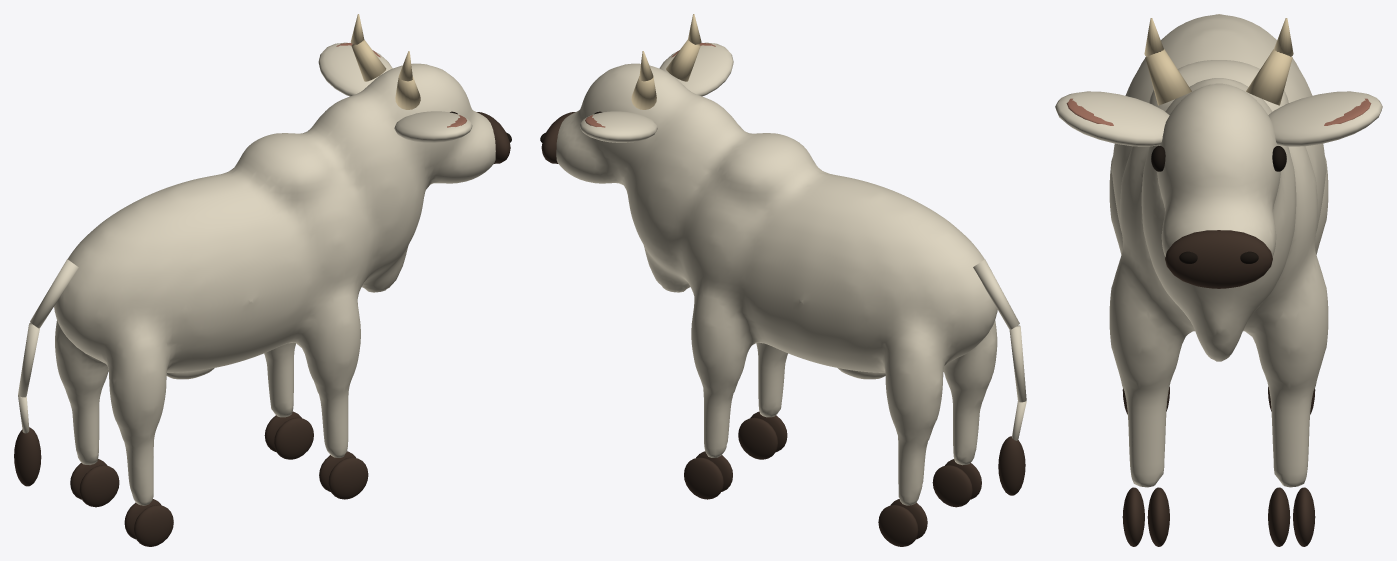
Rendered from yearling-bull.glb.
3 views of the same model, side by side, from view 1: azimuth 30°, elevation 25°; view 2: azimuth 150°, elevation 25°; view 3: azimuth 270°, elevation 25° (orthographic). The views are drawn at different scales.
Parts seen in each view (by area): view 1: Yearling bull - Cream body.001, Yearling bull - Cream Ear.003, Yearling bull - Cream Ear.002, Yearling bull - Cream Cloven hoof.010, Yearling bull - Cream Cloven hoof.014, Yearling bull - Cream Cloven hoof.012, Yearling bull - Cream Cloven hoof.008, Yearling bull - Cream Tail tuft.001, Yearling bull - Cream Tail.003, Yearling bull - Cream Horn base.003, Yearling bull - Cream Tail.004, Yearling bull - Cream Horn base.002 (+1 smaller); view 2: Yearling bull - Cream body.001, Yearling bull - Cream Ear.002, Yearling bull - Cream Ear.003, Yearling bull - Cream Cloven hoof.015, Yearling bull - Cream Cloven hoof.013, Yearling bull - Cream Cloven hoof.009, Yearling bull - Cream Cloven hoof.011, Yearling bull - Cream Tail tuft.001, Yearling bull - Cream Tail.003, Yearling bull - Cream Horn base.002, Yearling bull - Cream Tail.004, Yearling bull - Cream Horn base.003 (+1 smaller); view 3: Yearling bull - Cream body.001, Yearling bull - Cream Nose.001, Yearling bull - Cream Ear.002, Yearling bull - Cream Ear.003, Yearling bull - Cream Horn base.002, Yearling bull - Cream Horn base.003, Yearling bull - Cream Cloven hoof.011, Yearling bull - Cream Cloven hoof.014, Yearling bull - Cream Cloven hoof.010, Yearling bull - Cream Cloven hoof.015, Yearling bull - Cream Horn tip.002, Yearling bull - Cream Horn tip.003 (+2 smaller).
Part boxes in pixels (x1,y1,x2,y2): Yearling bull - Cream body.001: [54, 63, 495, 505]; Yearling bull - Cream Ear.003: [318, 42, 392, 96]; Yearling bull - Cream Ear.002: [394, 111, 472, 142]; Yearling bull - Cream Cloven hoof.010: [328, 457, 368, 499]; Yearling bull - Cream Cloven hoof.014: [274, 417, 313, 459]; Yearling bull - Cream Cloven hoof.012: [79, 465, 119, 507]; Yearling bull - Cream Cloven hoof.008: [134, 505, 173, 546]; Yearling bull - Cream Tail tuft.001: [14, 427, 41, 486]; Yearling bull - Cream Tail.003: [30, 259, 78, 328]; Yearling bull - Cream Horn base.003: [351, 40, 386, 81]; Yearling bull - Cream Tail.004: [18, 323, 39, 397]; Yearling bull - Cream Horn base.002: [395, 76, 420, 109]; Yearling bull - Cream body.001: [556, 63, 997, 505]; Yearling bull - Cream Ear.002: [659, 42, 733, 96]; Yearling bull - Cream Ear.003: [579, 111, 657, 142]; Yearling bull - Cream Cloven hoof.015: [684, 457, 723, 499]; Yearling bull - Cream Cloven hoof.013: [878, 505, 918, 546]; Yearling bull - Cream Cloven hoof.009: [932, 465, 972, 507]; Yearling bull - Cream Cloven hoof.011: [738, 417, 777, 459]; Yearling bull - Cream Tail tuft.001: [998, 436, 1025, 495]; Yearling bull - Cream Tail.003: [973, 259, 1019, 329]; Yearling bull - Cream Horn base.002: [666, 39, 700, 81]; Yearling bull - Cream Tail.004: [1009, 325, 1026, 402]; Yearling bull - Cream Horn base.003: [631, 76, 656, 109]; Yearling bull - Cream body.001: [1109, 14, 1328, 487]; Yearling bull - Cream Nose.001: [1165, 230, 1272, 288]; Yearling bull - Cream Ear.002: [1055, 91, 1169, 146]; Yearling bull - Cream Ear.003: [1268, 91, 1382, 146]; Yearling bull - Cream Horn base.002: [1145, 49, 1191, 105]; Yearling bull - Cream Horn base.003: [1246, 49, 1292, 105]; Yearling bull - Cream Cloven hoof.011: [1147, 487, 1169, 546]; Yearling bull - Cream Cloven hoof.014: [1268, 487, 1290, 546]; Yearling bull - Cream Cloven hoof.010: [1122, 487, 1144, 546]; Yearling bull - Cream Cloven hoof.015: [1293, 487, 1315, 546]; Yearling bull - Cream Horn tip.002: [1144, 18, 1163, 56]; Yearling bull - Cream Horn tip.003: [1274, 18, 1293, 56].
Bounding box in the file's own units: 2.14 × 1.82 × 0.9514.
